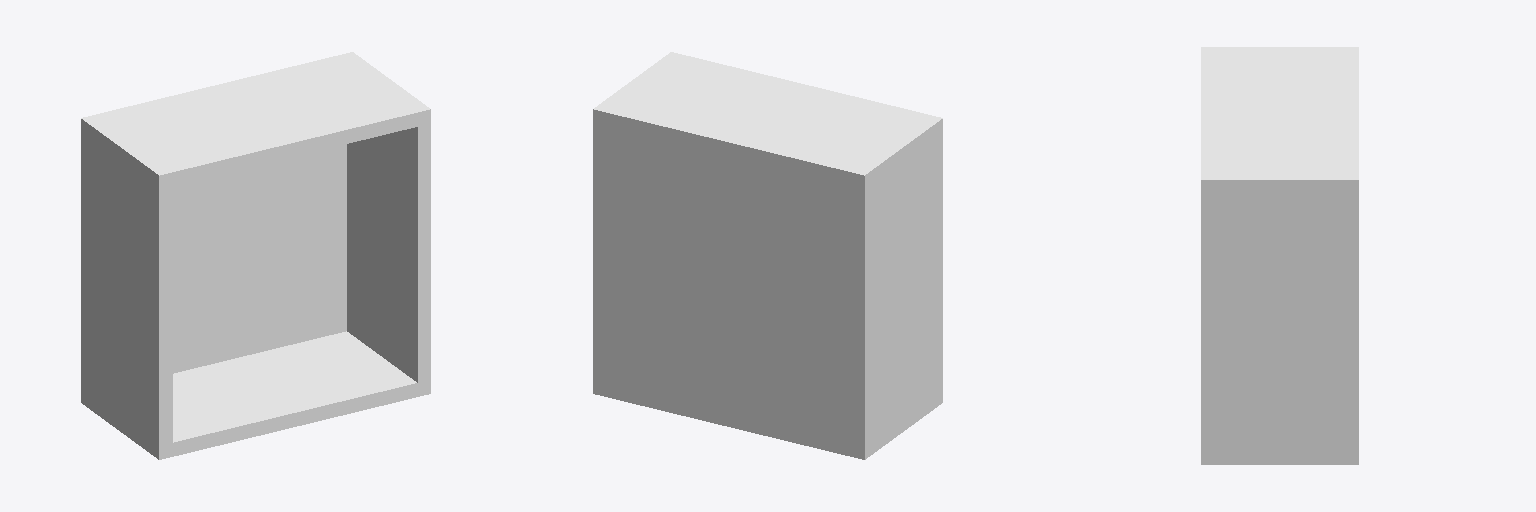
Rendered from DoubleRoom.obj.
3 renders of one model, left to right at view 1: azimuth 30°, elevation 25°; view 2: azimuth 150°, elevation 25°; view 3: azimuth 270°, elevation 25°, orthographic.
Visible parts, largest first — view 1: DoubleRoom; view 2: DoubleRoom; view 3: DoubleRoom.
Part boxes in pixels (x1,y1,x2,y2): DoubleRoom: (81,52,430,459); DoubleRoom: (593,52,942,459); DoubleRoom: (1201,47,1358,464).
Bounding box in the file's own units: 40 × 40 × 20.